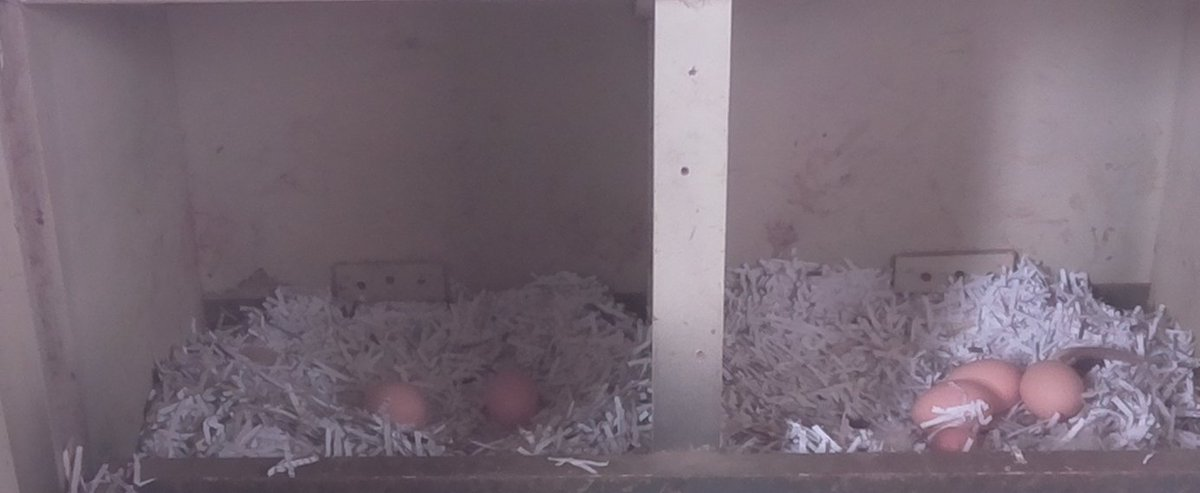egg: (908, 377, 1002, 437), (1012, 358, 1093, 424), (938, 360, 1025, 416), (360, 376, 434, 438), (484, 364, 546, 429), (922, 424, 988, 454)
